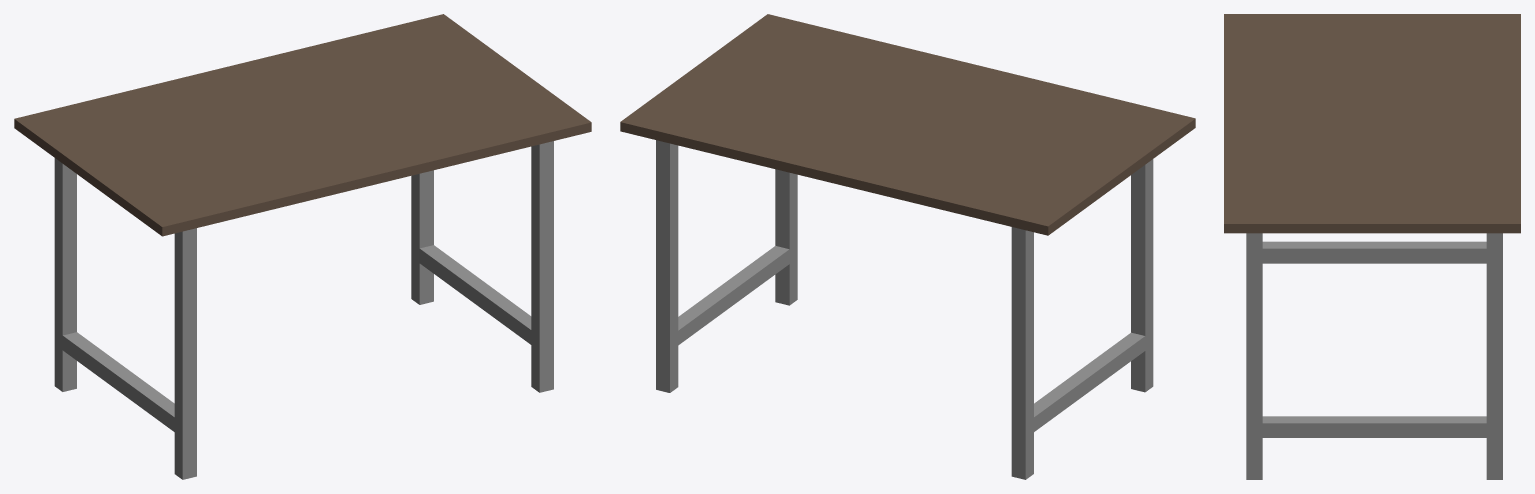
Rendered from Table_20.fbx.
3 views of the same model, side by side, from view 1: azimuth 30°, elevation 25°; view 2: azimuth 150°, elevation 25°; view 3: azimuth 270°, elevation 25° (orthographic).
Visible parts, largest first — view 1: Table_20; view 2: Table_20; view 3: Table_20.
Boxes of the visible parts, x1,y1,x2,y2 form: Table_20: [14, 14, 591, 479]; Table_20: [620, 14, 1195, 479]; Table_20: [1224, 14, 1520, 479].
Size of the model in its own units: 227 by 136 by 136.
